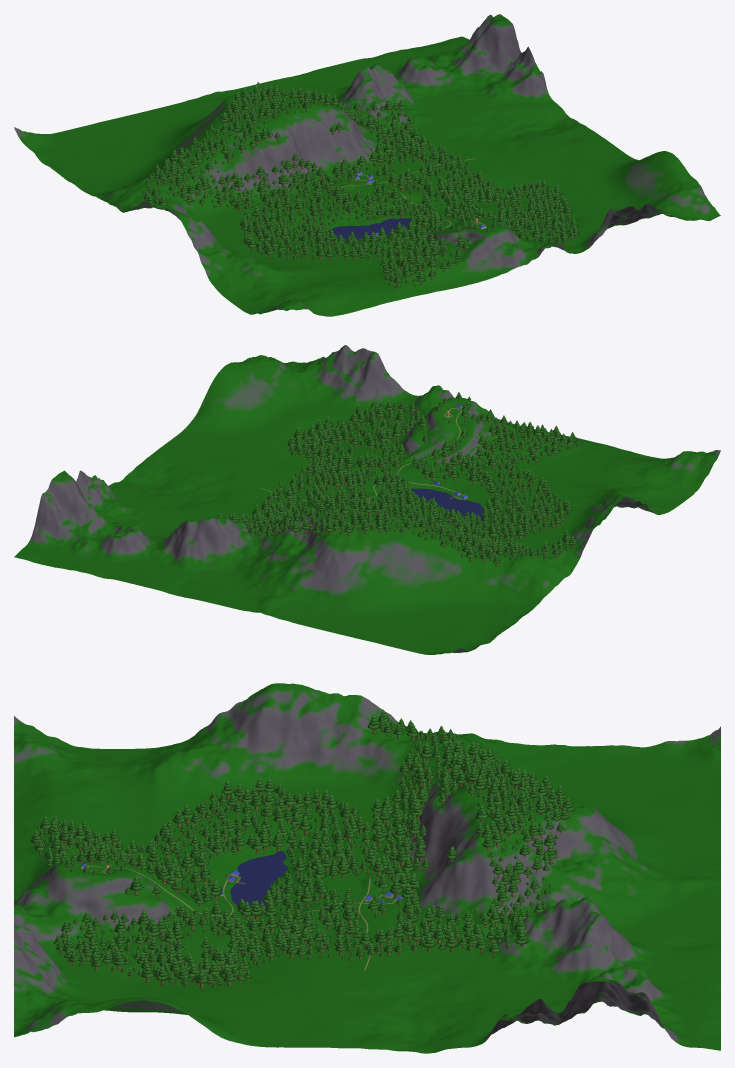
The model's file is enviro-test.glb.
3 renders of one model, top to bottom at view 1: azimuth 30°, elevation 25°; view 2: azimuth 150°, elevation 25°; view 3: azimuth 270°, elevation 25°, orthographic. The views are drawn at different scales.
Visible parts, largest first — view 1: Landscape, e-waterplane-col; view 2: Landscape, e-waterplane-col; view 3: Landscape, e-waterplane-col.
Part boxes in pixels (bbox=[...]): Landscape: bbox=[14, 14, 720, 316]; e-waterplane-col: bbox=[316, 218, 414, 241]; Landscape: bbox=[14, 345, 720, 654]; e-waterplane-col: bbox=[411, 488, 484, 520]; Landscape: bbox=[14, 683, 720, 1053]; e-waterplane-col: bbox=[230, 851, 287, 906].
Size of what is drawn, in the model's own units: 1874 by 300 by 1874.
